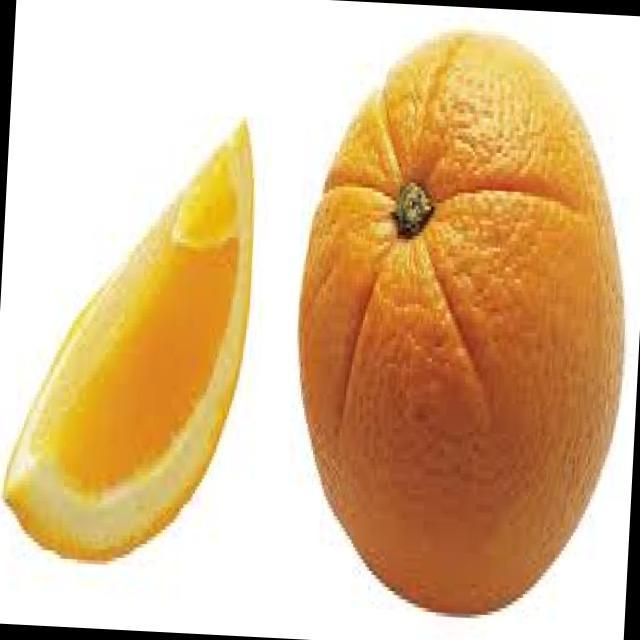Orange: (0, 62, 291, 637)
